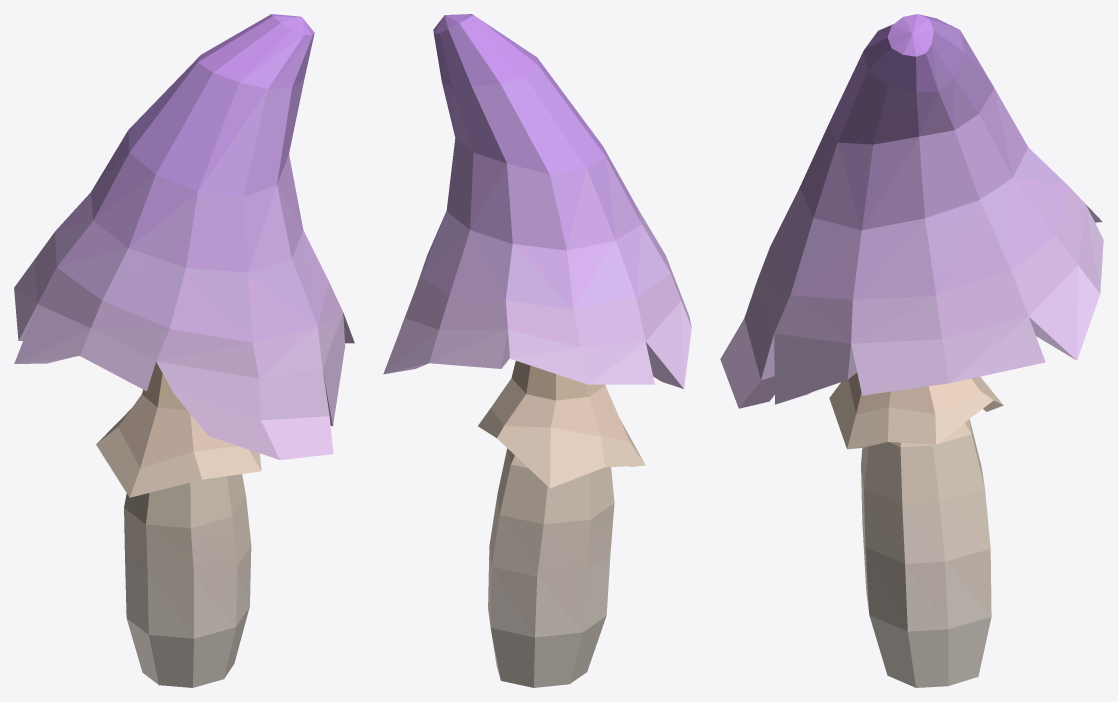
File: mushroom_fantasy_purple_08.glb
3 views of the same model, side by side, from view 1: azimuth 30°, elevation 25°; view 2: azimuth 150°, elevation 25°; view 3: azimuth 270°, elevation 25° (orthographic). The views are drawn at different scales.
Visible parts, largest first — view 1: PP_Mushroom_Fantasy_Purple_08.002; view 2: PP_Mushroom_Fantasy_Purple_08.002; view 3: PP_Mushroom_Fantasy_Purple_08.002.
Boxes of the visible parts, x1,y1,x2,y2 form: PP_Mushroom_Fantasy_Purple_08.002: (14,14,354,687); PP_Mushroom_Fantasy_Purple_08.002: (383,14,691,687); PP_Mushroom_Fantasy_Purple_08.002: (720,14,1103,687).
Size of the model in its own units: 0.3194 by 0.6588 by 0.3293.
